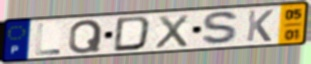D: (111, 15, 153, 53)
K: (244, 9, 275, 43)
L: (34, 22, 62, 57)
Q: (67, 18, 104, 56)
S: (200, 10, 242, 47)
X: (154, 13, 191, 50)
